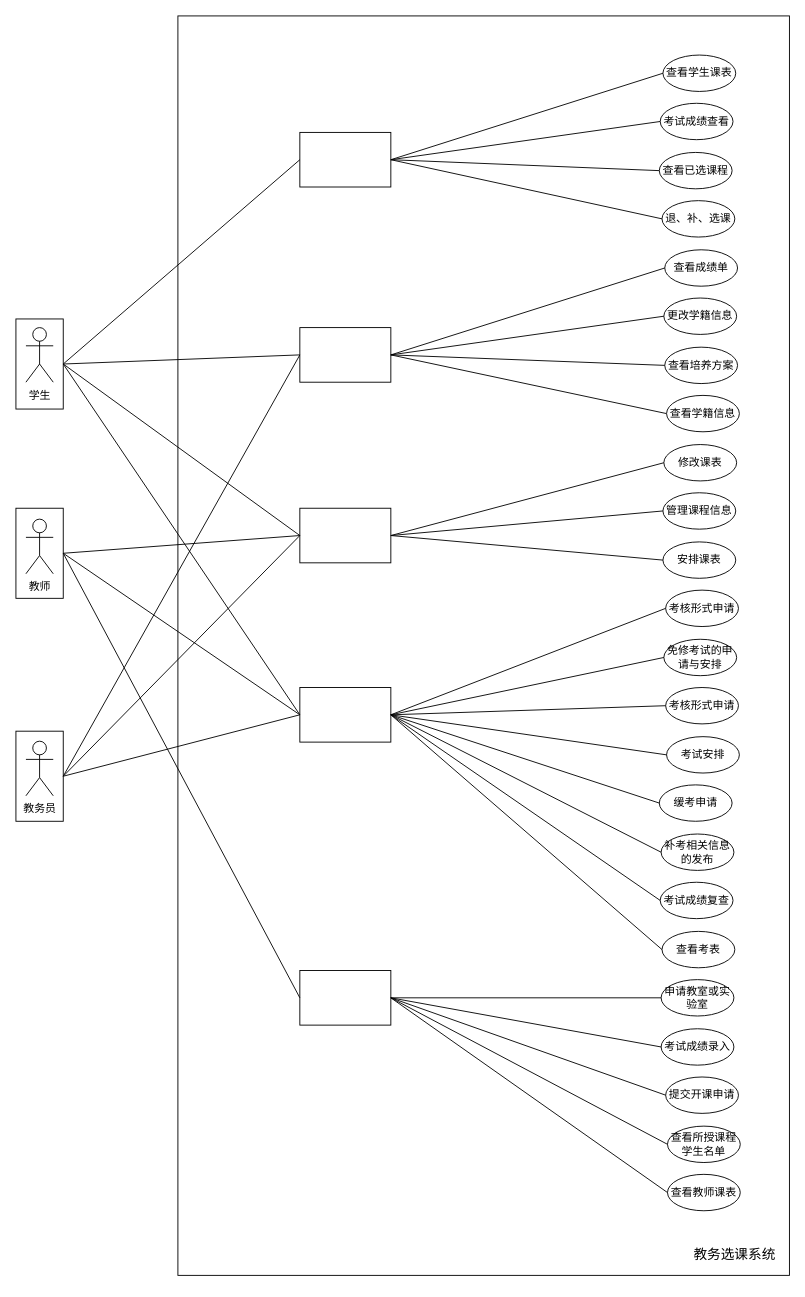
This 805x1297 diagram has some shape labels left out. The centre of each missing label's shape, as x and y in pixels:
进行个人信息相关操作: the point at 345,354
进行学生课程相关操作: the point at 345,159
进行教师课程相关操作: the point at 345,997
进行考试相关操作: the point at 345,714
进行课程课表相关操作: the point at 345,535
